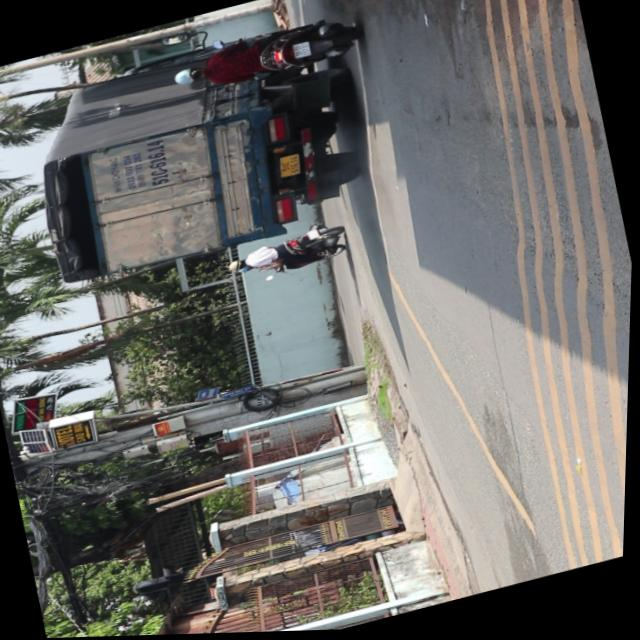helmet: (170, 64, 206, 89)
licenseplate: (168, 10, 367, 103)
nohelmet: (291, 42, 311, 60)
